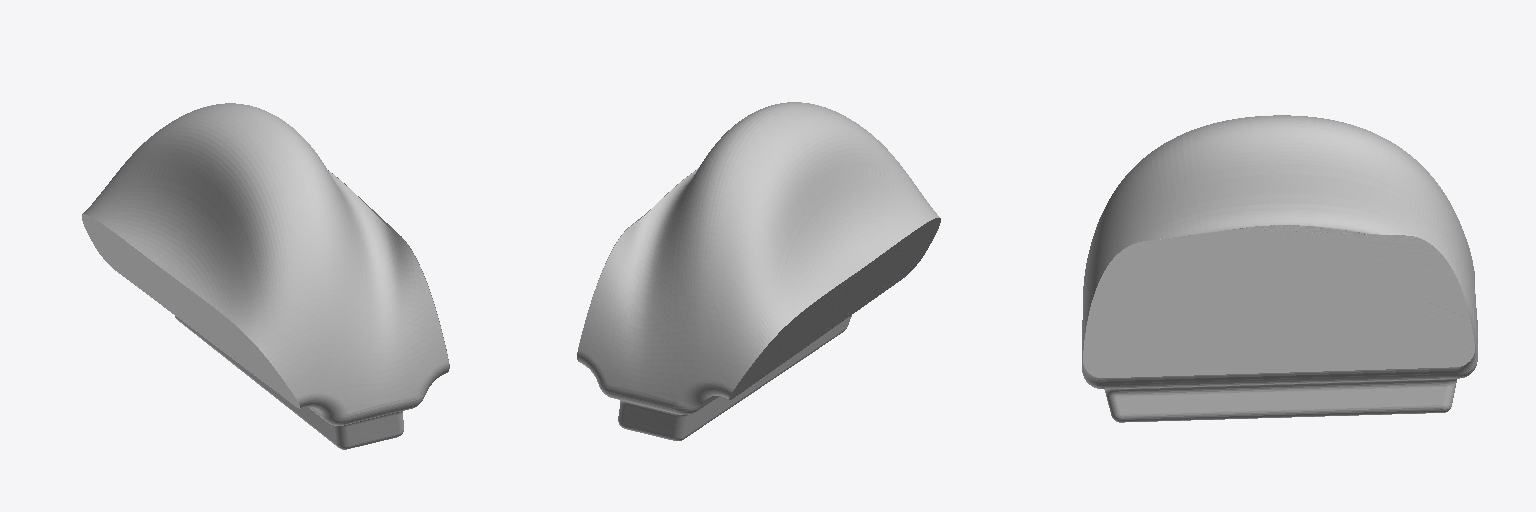
The model's file is CAD softgripper_slice7.obj.
The picture shows the model from 3 angles: view 1: azimuth 30°, elevation 25°; view 2: azimuth 150°, elevation 25°; view 3: azimuth 270°, elevation 25°; orthographic projection.
Visible parts, largest first — view 1: SG.AN.F1.002; view 2: SG.AN.F1.002; view 3: SG.AN.F1.002.
Boxes of the visible parts, box(x1,y1,x2,y2) form: SG.AN.F1.002: box(82, 103, 449, 449); SG.AN.F1.002: box(577, 102, 940, 440); SG.AN.F1.002: box(1082, 115, 1477, 422).
Size of the model in its own units: 0.0114 by 0.0152 by 0.0199.